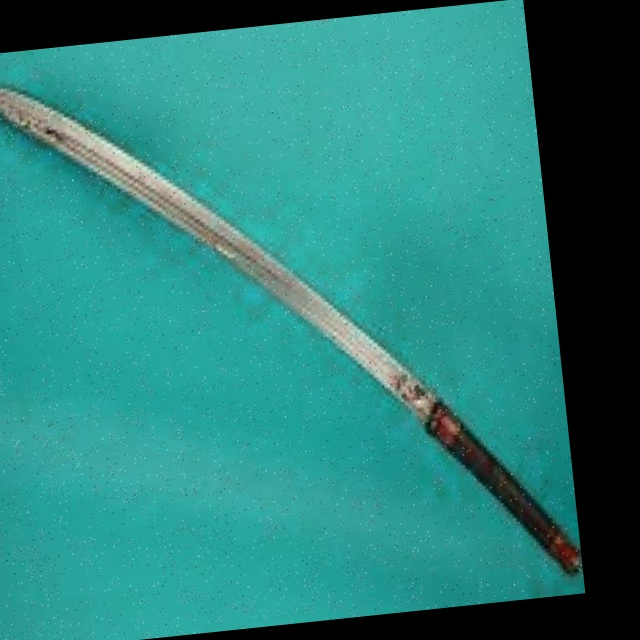Sharp-Object: (0, 12, 585, 640)
